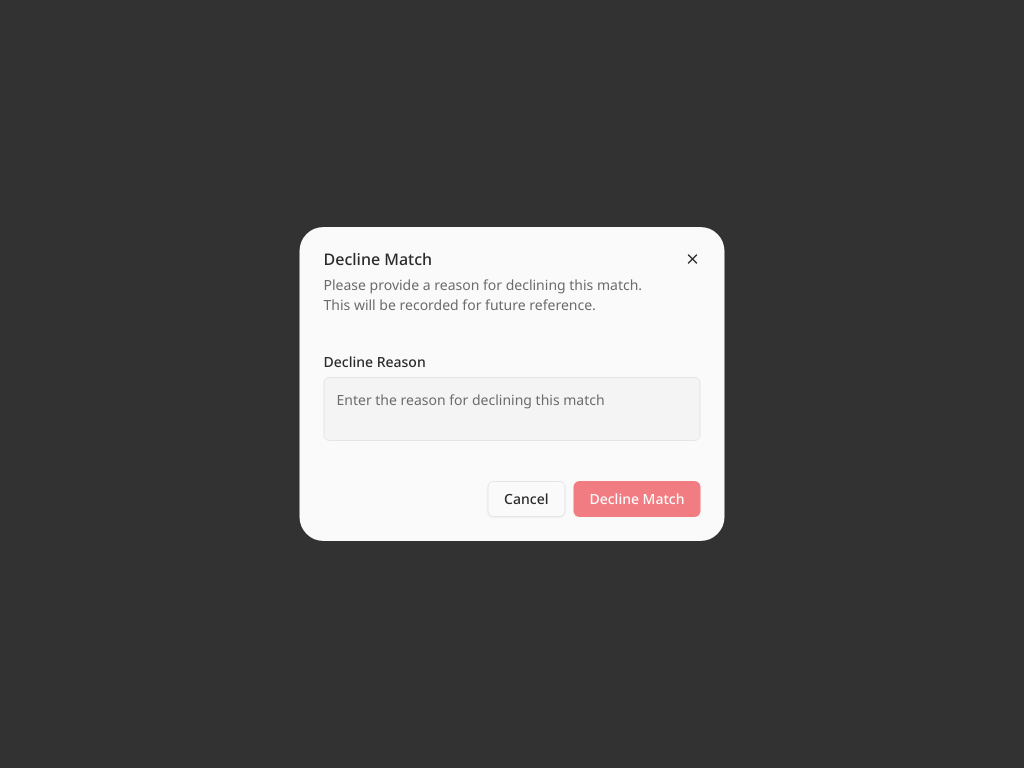
Test: match reason dialog states › shows the server detail when the decline request fails and stays open
In the text box: (512, 409) [324, 377, 700, 441], type "Family withdrew"
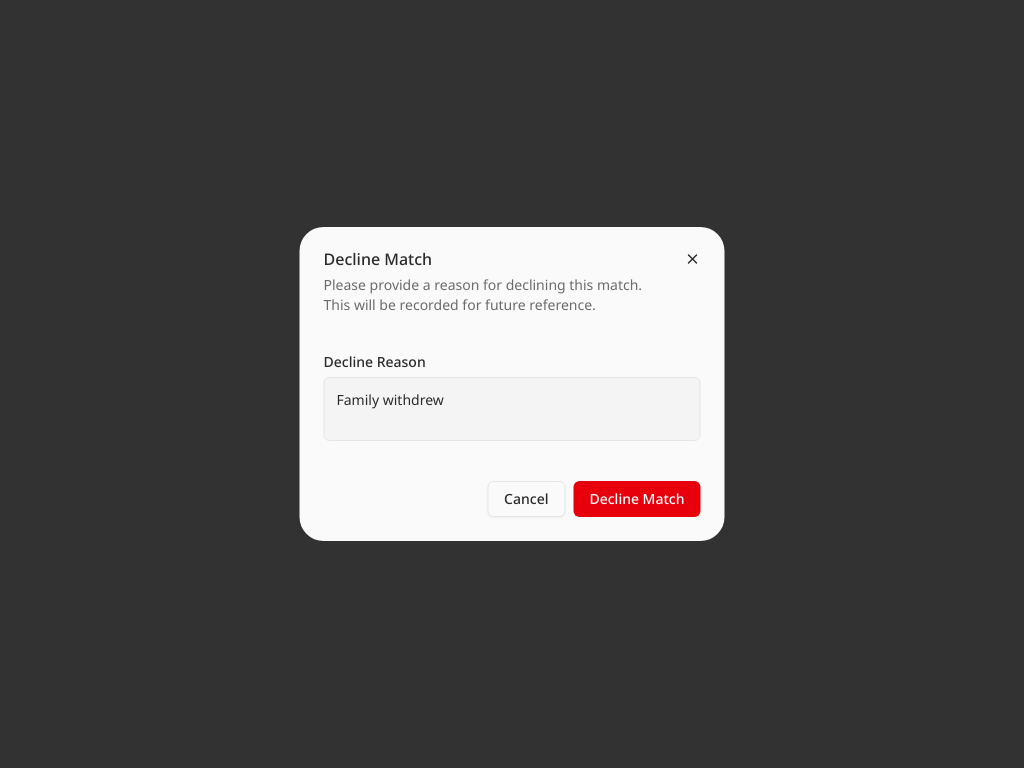
Click the button "Decline Match": (637, 499) [574, 481, 700, 517]
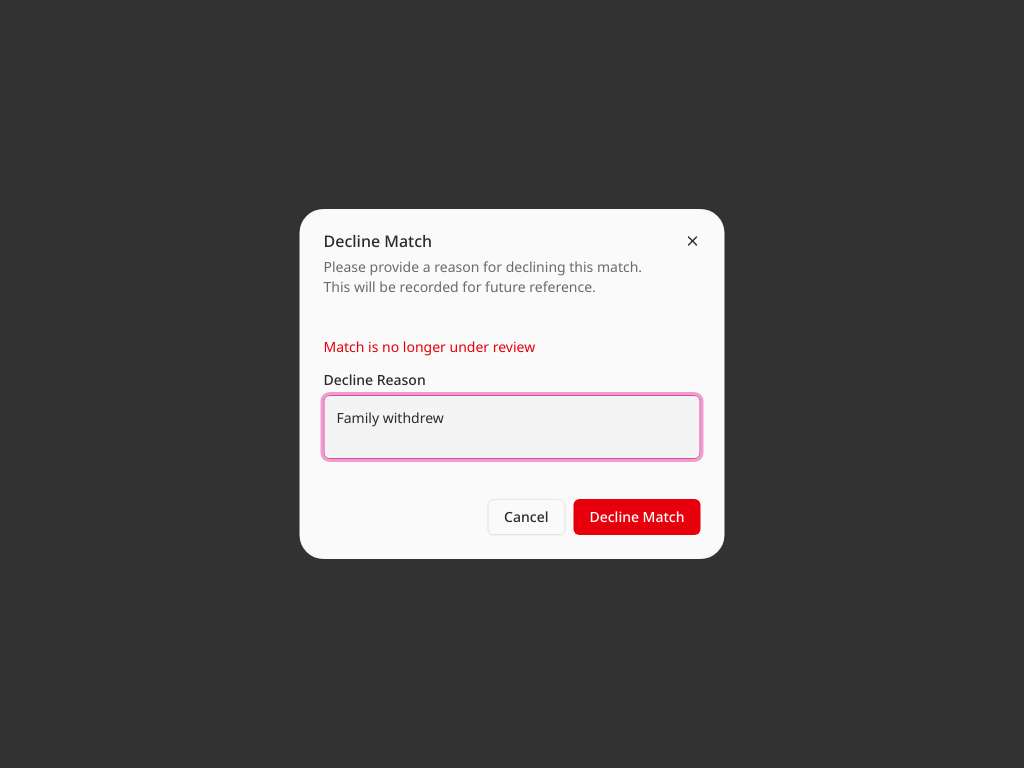
expect the message reads "Match is no longer under review": met, box [324, 337, 535, 356]
